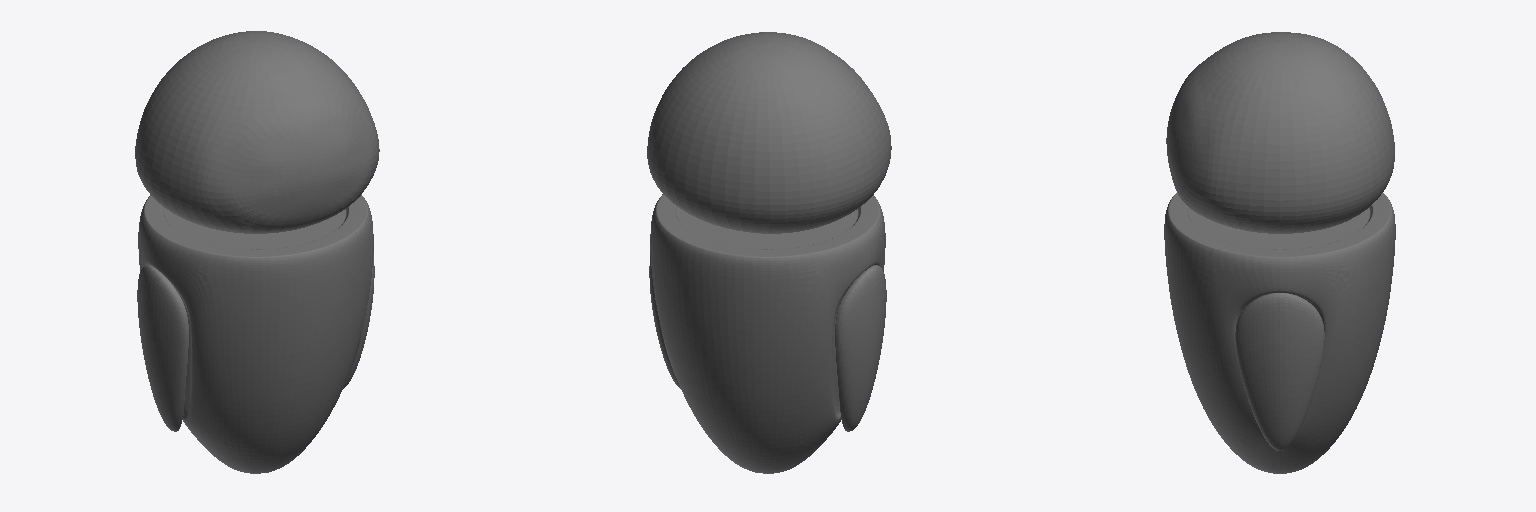
File: EVE.obj
3 renders of one model, left to right at view 1: azimuth 30°, elevation 25°; view 2: azimuth 150°, elevation 25°; view 3: azimuth 270°, elevation 25°, orthographic.
Parts seen in each view (by area): view 1: polySurface8, pSphere7, polySurface6, polySurface7; view 2: polySurface8, pSphere7, polySurface6, polySurface7; view 3: pSphere7, polySurface8, polySurface7.
Boxes of the visible parts, box(x1,y1,x2,y2) form: polySurface8: box(138, 194, 373, 473); pSphere7: box(135, 31, 379, 233); polySurface6: box(137, 265, 188, 431); polySurface7: box(343, 252, 374, 388); polySurface8: box(650, 194, 885, 473); pSphere7: box(647, 32, 891, 233); polySurface6: box(835, 265, 886, 431); polySurface7: box(649, 252, 680, 388); pSphere7: box(1166, 32, 1394, 233); polySurface8: box(1164, 193, 1395, 473); polySurface7: box(1235, 293, 1324, 450).
Bounding box in the file's own units: 1.46 × 2.72 × 1.33.